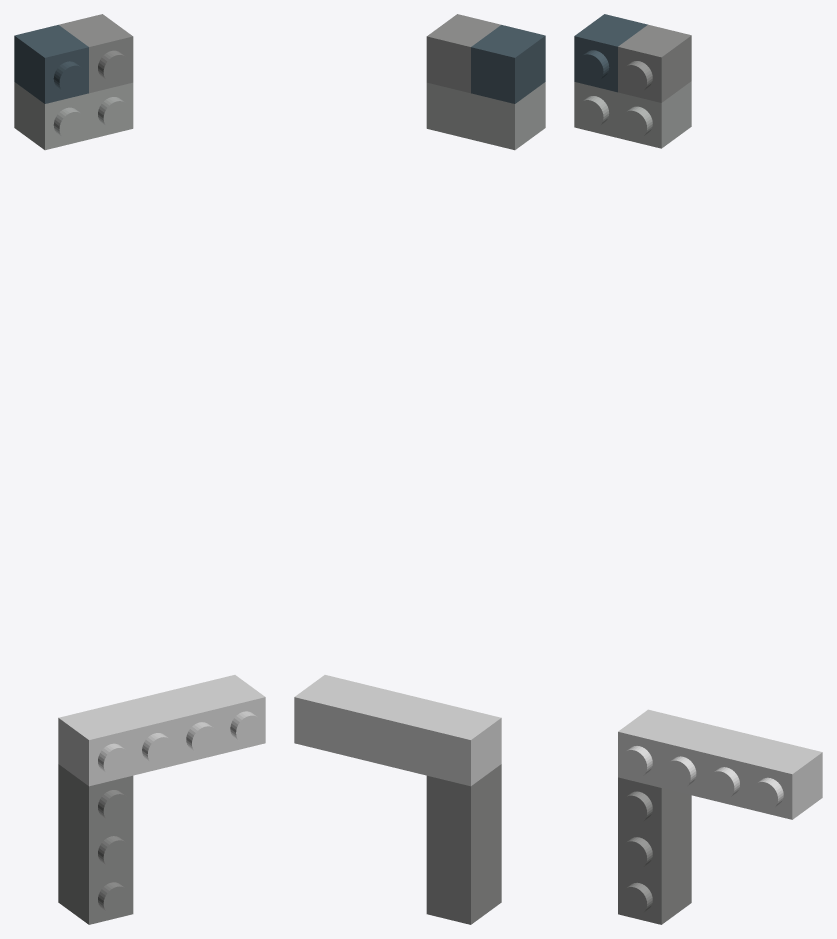
File: current.glb
3 renders of one model, left to right at view 1: azimuth 30°, elevation 25°; view 2: azimuth 150°, elevation 25°; view 3: azimuth 330°, elevation 25°, orthographic.
Visible parts, largest first — view 1: world; view 2: world; view 3: world.
Part boxes in pixels (box(x1,y1,x2,y2)): world: box(14, 14, 265, 924); world: box(294, 14, 545, 924); world: box(574, 14, 822, 924).
Bounding box in the file's own units: 40 × 152 × 11.4.
